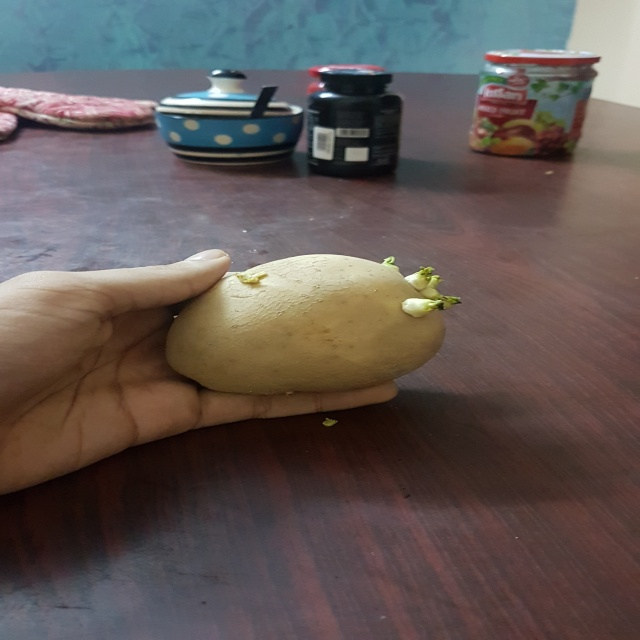potato: (160, 243, 463, 397)
